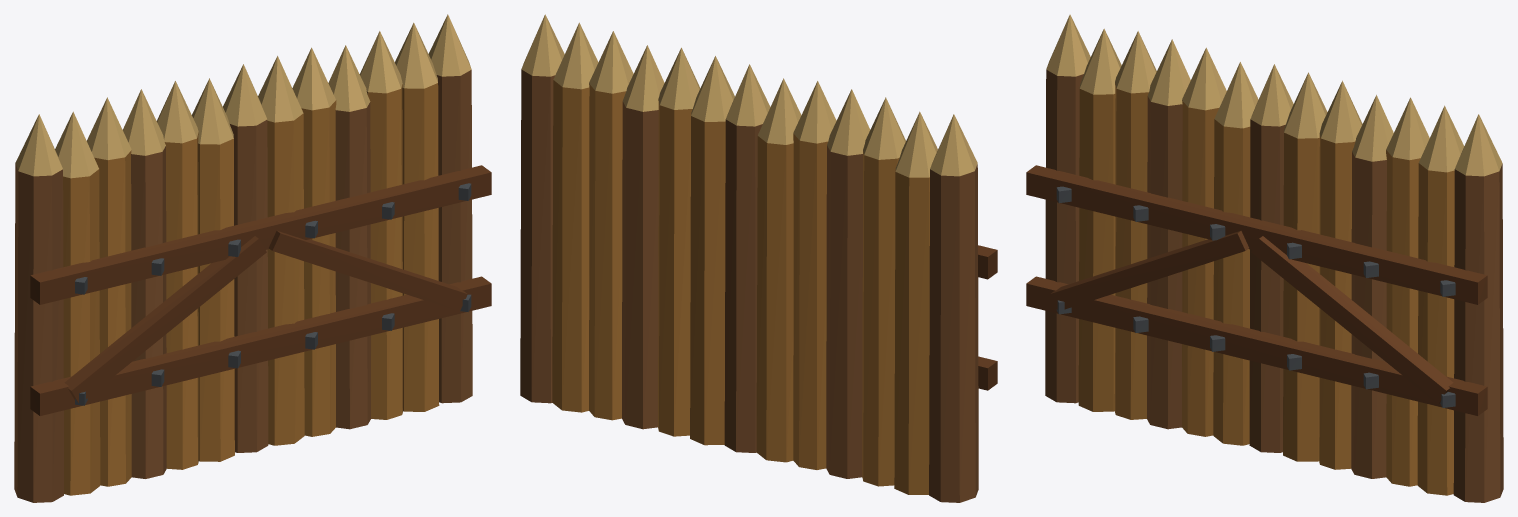
The picture shows the model from 3 angles, left to right: view 1: azimuth 30°, elevation 25°; view 2: azimuth 150°, elevation 25°; view 3: azimuth 330°, elevation 25°; orthographic projection.
Visible parts, largest first — view 1: WK_W02_LOD0_High; view 2: WK_W02_LOD0_High; view 3: WK_W02_LOD0_High.
Part boxes in pixels (x1,y1,x2,y2): WK_W02_LOD0_High: [14, 14, 491, 502]; WK_W02_LOD0_High: [520, 14, 997, 502]; WK_W02_LOD0_High: [1026, 14, 1503, 502].
Size of the model in its own units: 4 by 3.2 by 0.65.
